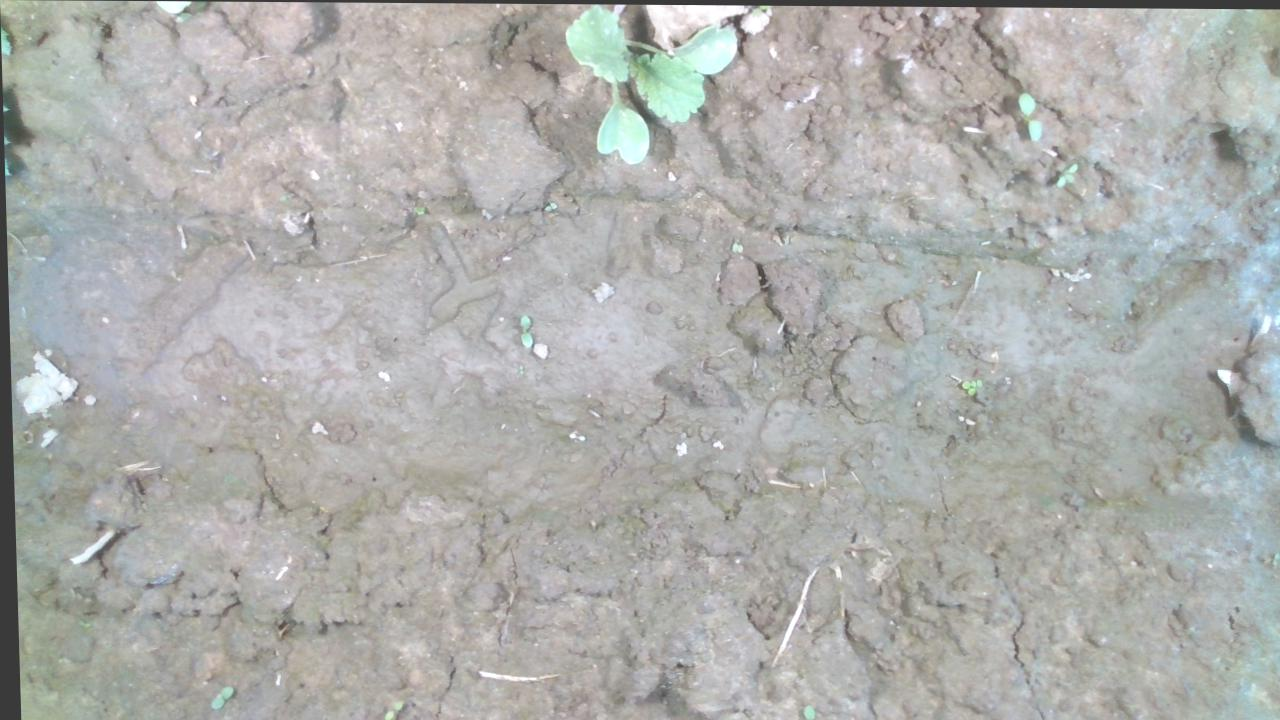weed: (509, 310, 536, 347), (1056, 160, 1083, 190), (954, 371, 983, 397)
